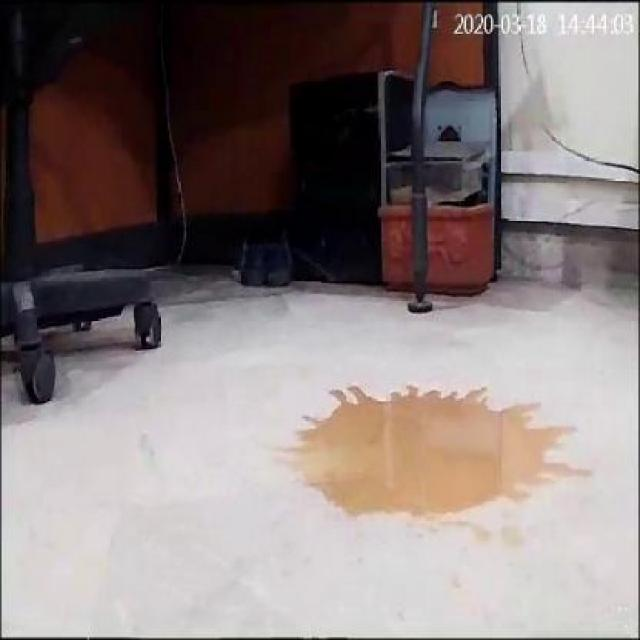spill: (271, 382, 591, 520)
